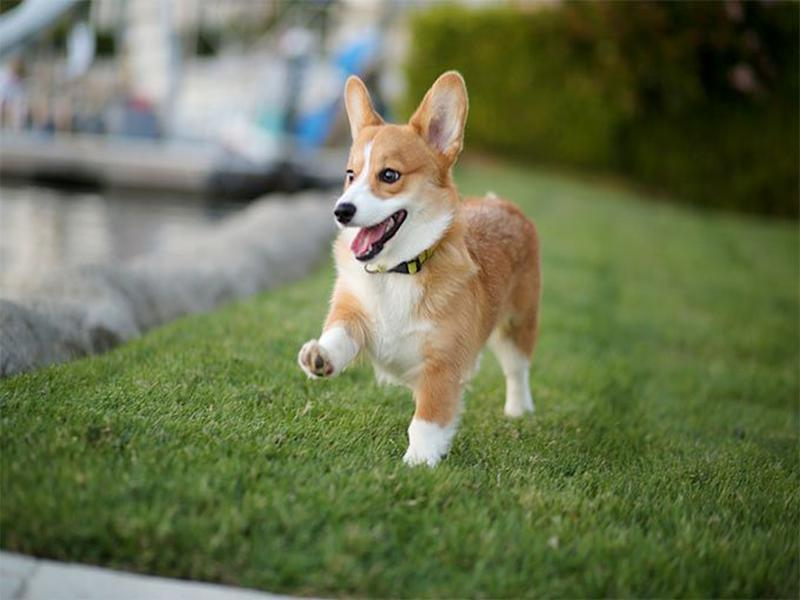corgi: (333, 70, 471, 274)
